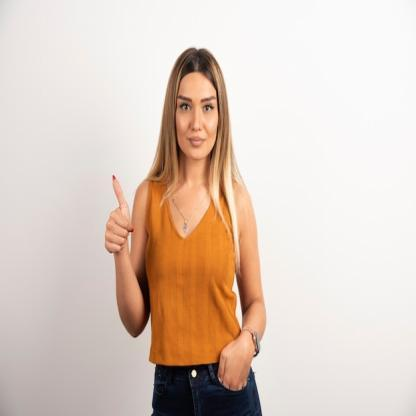thumb_up: (101, 171, 136, 256)
